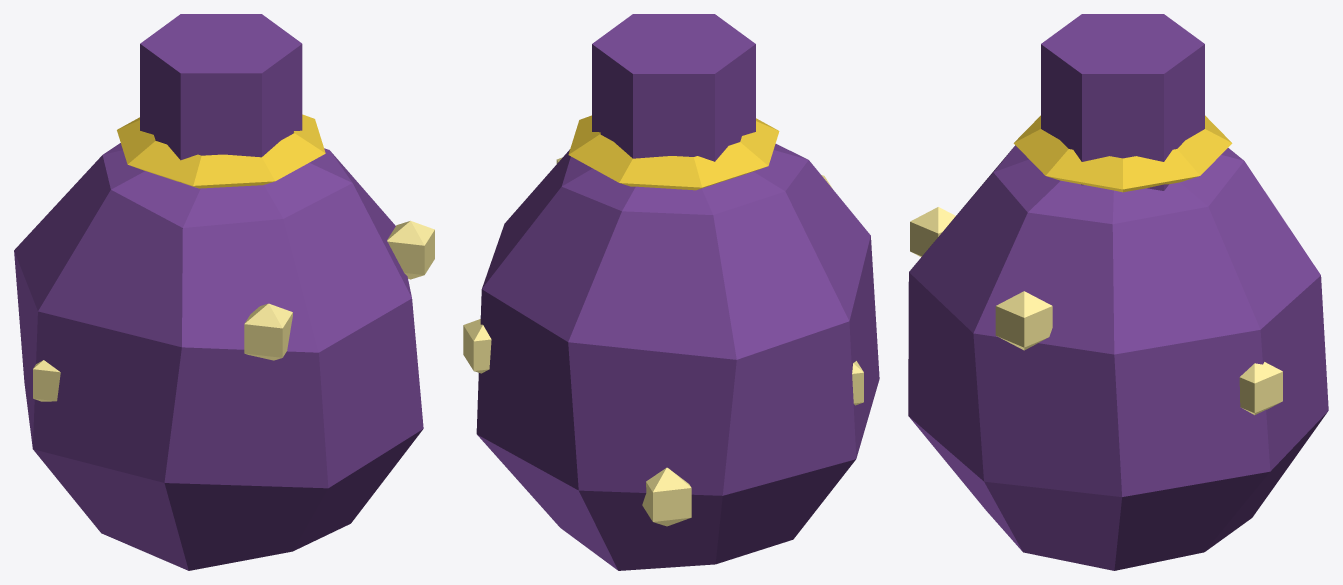
The model's file is sleepDust.fbx.
3 views of the same model, side by side, from view 1: azimuth 30°, elevation 25°; view 2: azimuth 150°, elevation 25°; view 3: azimuth 270°, elevation 25° (orthographic).
Visible parts, largest first — view 1: sleepDust; view 2: sleepDust; view 3: sleepDust.
Part boxes in pixels (bbox=[...]): sleepDust: bbox=[14, 14, 434, 570]; sleepDust: bbox=[463, 14, 879, 570]; sleepDust: bbox=[908, 14, 1328, 570].
Bounding box in the file's own units: 0.3199 × 0.4127 × 0.3073.
